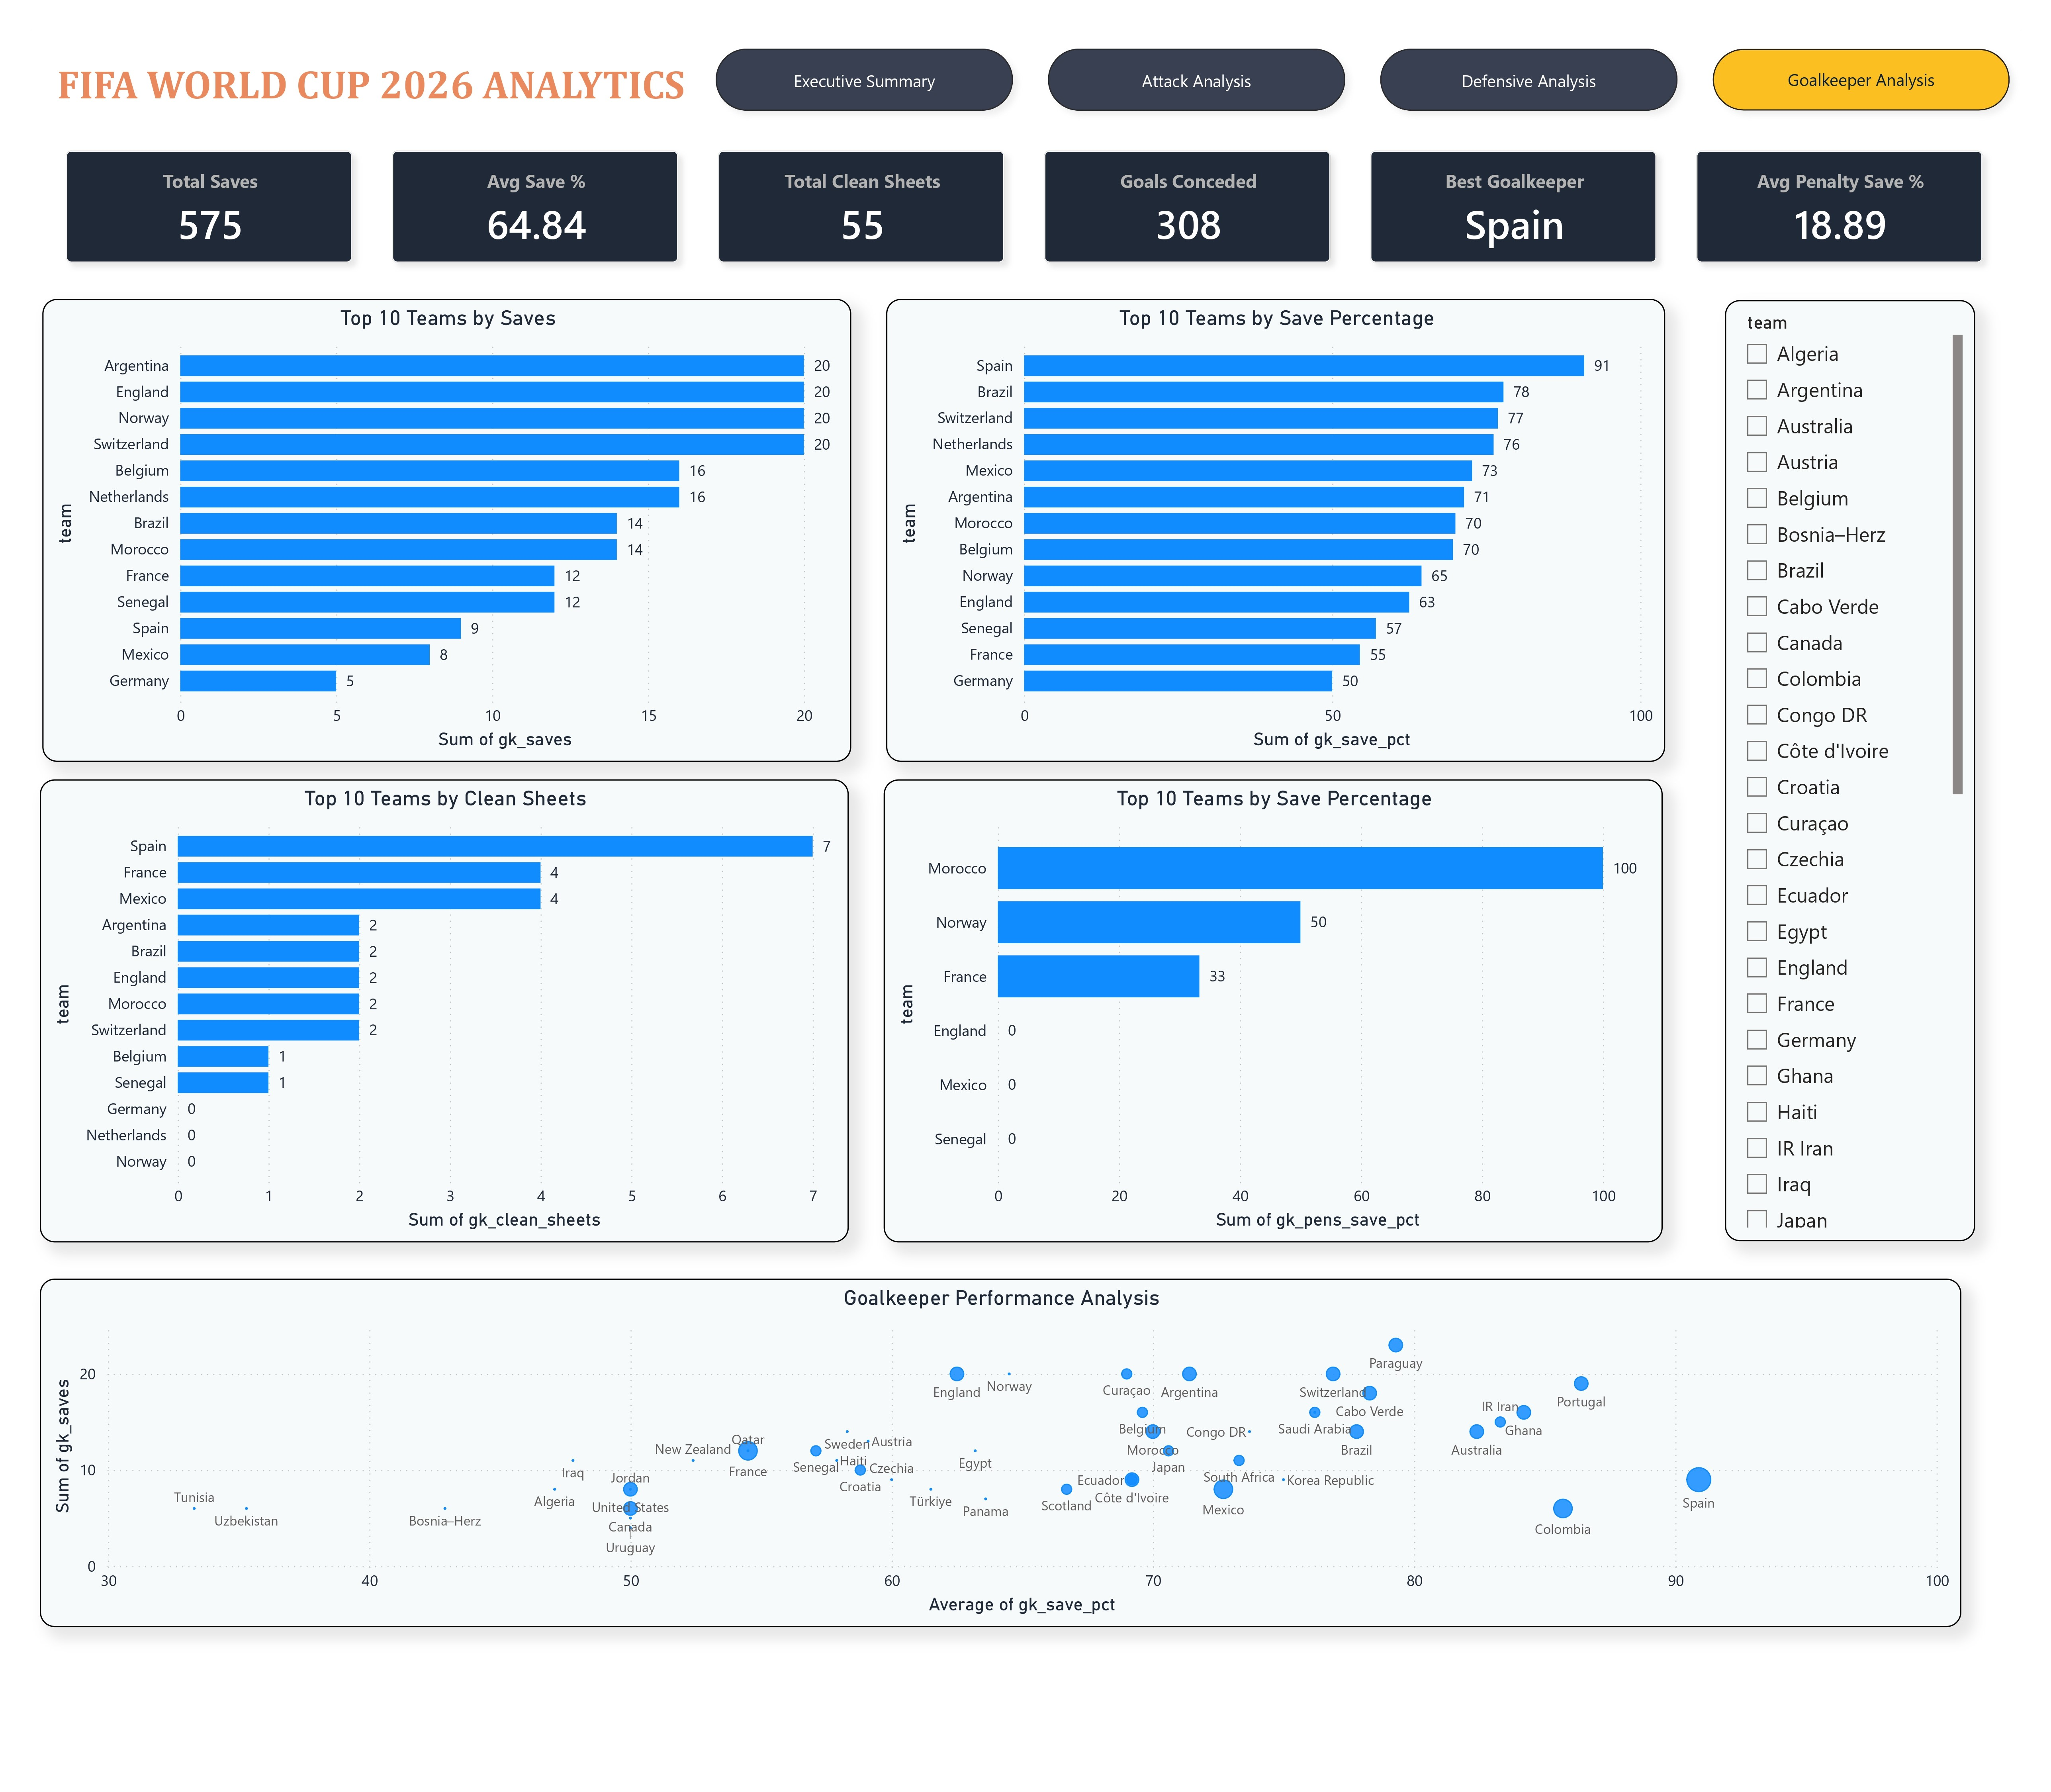

What the dashboard file says about the page in this screenshot:
{"tool":"powerbi","page":{"name":"Goalkeeper Analysis","canvas":[1600,1700],"ordinal":3},"visuals":[{"type":"cardVisual","fields":{"Data":["teams csv.Total Saves","teams csv.Avg Save %","teams csv.Total Clean Sheets","teams csv.Goals Conceded","teams csv.Best Goalkeeper","teams csv.Avg Penalty Save %"]},"box":[0,68,1600,148],"z":0},{"type":"clusteredBarChart","title":"Top 10 Teams by Saves","fields":{"Category":["teams csv.team"],"Y":["Sum(teams csv.gk_saves)"]},"box":[10,216,650,372],"z":1000},{"type":"clusteredBarChart","title":"Top 10 Teams by Save Percentage","fields":{"Category":["teams csv.team"],"Y":["Sum(teams csv.gk_save_pct)"]},"box":[688,216,626,372],"z":2000},{"type":"slicer","title":"Possession vs Goals","fields":{"Values":["teams csv.team"]},"box":[1361.7,216.7,201.7,756.7],"z":4000},{"type":"textbox","box":[10,20,531.7,48.3],"z":5000},{"type":"pageNavigator","box":[541.7,5.8,1058.3,68.3],"z":6000},{"type":"scatterChart","title":"Goalkeeper Performance Analysis","fields":{"X":["Avg(teams csv.gk_save_pct)"],"Y":["Sum(teams csv.gk_saves)"],"Size":["Sum(teams csv.gk_clean_sheets)"],"Category":["teams csv.team"]},"box":[8.3,1003.3,1543.3,280],"z":7000},{"type":"clusteredBarChart","title":"Top 10 Teams by Clean Sheets","fields":{"Category":["teams csv.team"],"Y":["Sum(teams csv.gk_clean_sheets)"]},"box":[8,602,650,372],"z":7001},{"type":"clusteredBarChart","title":"Top 10 Teams by Save Percentage","fields":{"Category":["teams csv.team"],"Y":["Sum(teams csv.gk_pens_save_pct)"]},"box":[686,602,626,372],"z":7002}]}

Visuals, with their boxes on the page's 1600x1700 design canvas (x1, y1, x2, y2). These are canvas units, not pixel positions in the 2051x1792 screenshot, which may show the page scaled, cropped or inside an application window:
cardVisual - teams csv.Total Saves x teams csv.Avg Save %: 0/68/1600/216
"Top 10 Teams by Saves" clusteredBarChart: 10/216/660/588
"Top 10 Teams by Save Percentage" clusteredBarChart: 688/216/1314/588
"Possession vs Goals" slicer: 1362/217/1563/973
textbox: 10/20/542/68
pageNavigator: 542/6/1600/74
"Goalkeeper Performance Analysis" scatterChart: 8/1003/1552/1283
"Top 10 Teams by Clean Sheets" clusteredBarChart: 8/602/658/974
"Top 10 Teams by Save Percentage" clusteredBarChart: 686/602/1312/974
